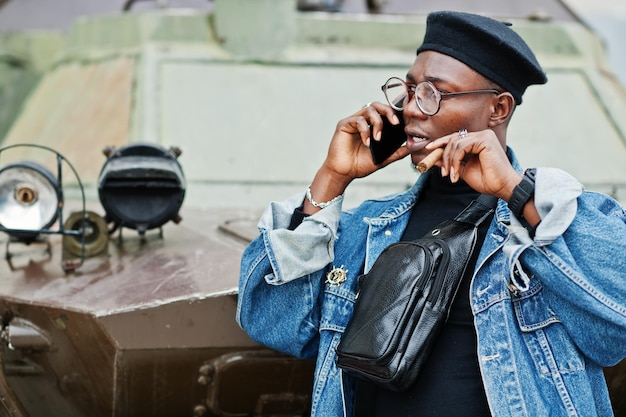cigarette: (416, 147, 443, 172)
